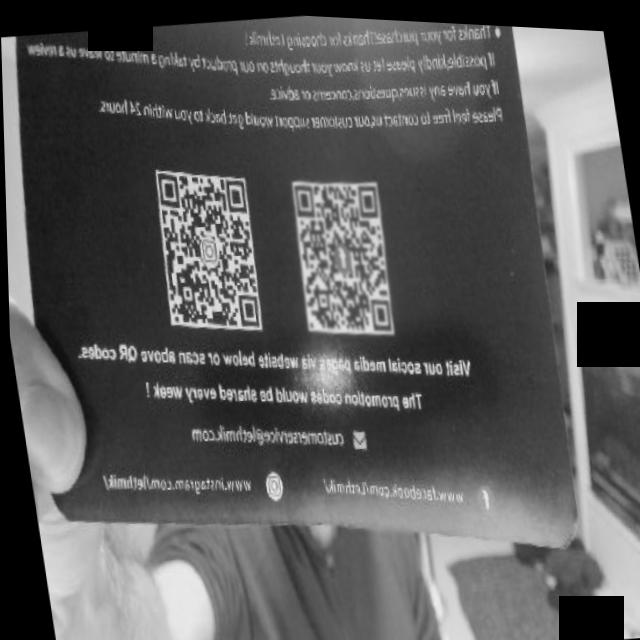QR_CODE: (141, 149, 278, 346), (278, 148, 405, 351)
